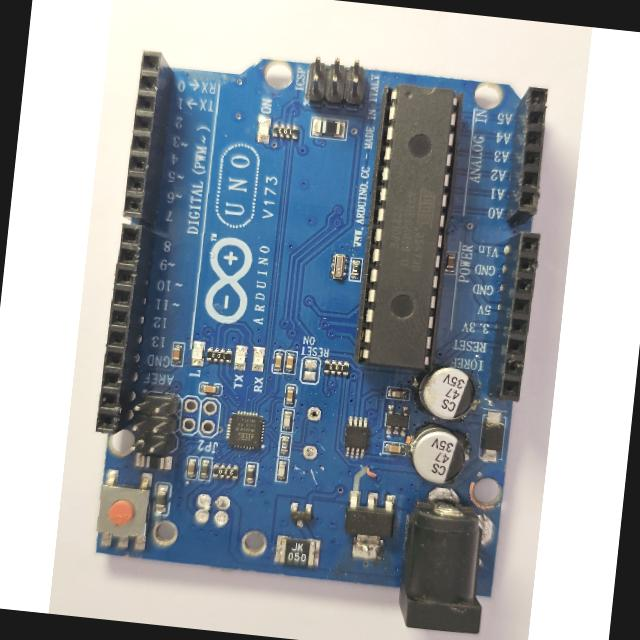missing_crystal_os: (291, 388, 333, 483)
missing_usb: (166, 487, 277, 566)
